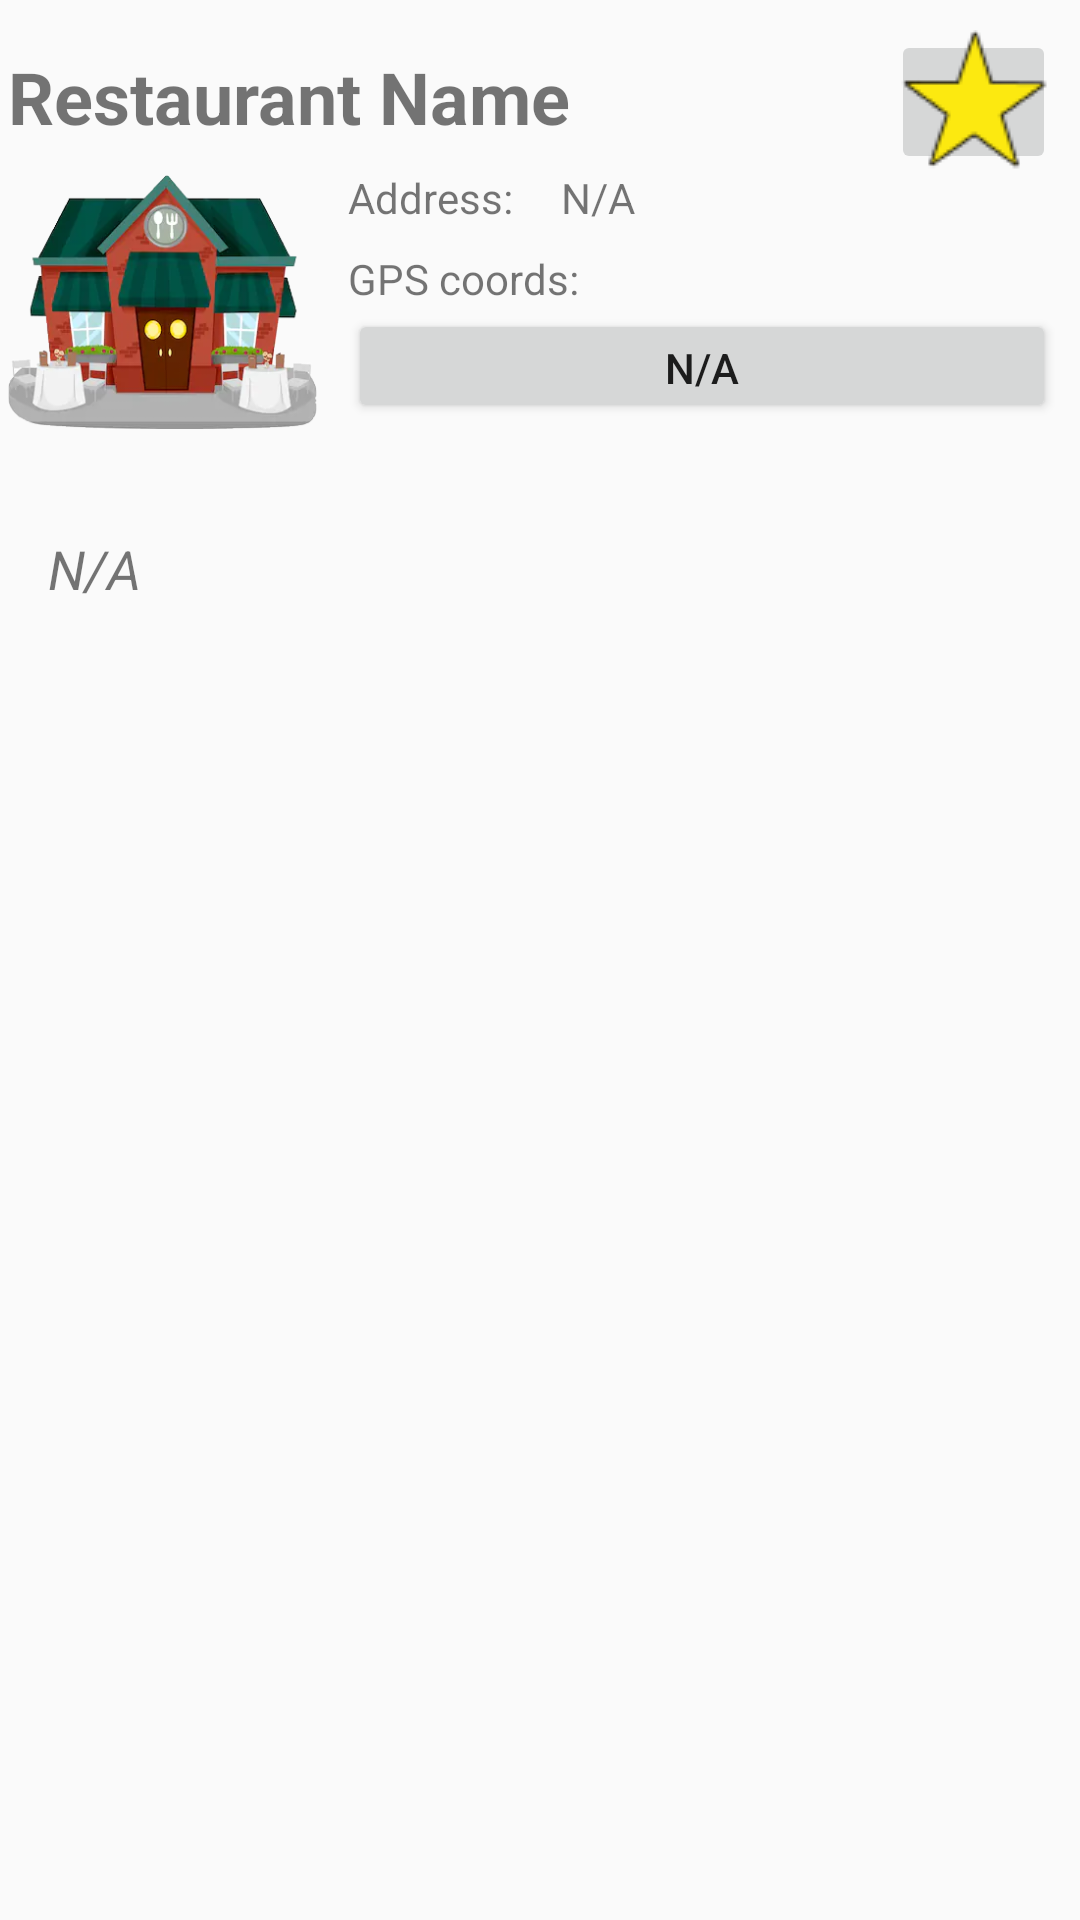

Icon click points for this 1080 x 1920 phone screenshot, format point (x, y):
smallyellowstar: point (975, 99)
